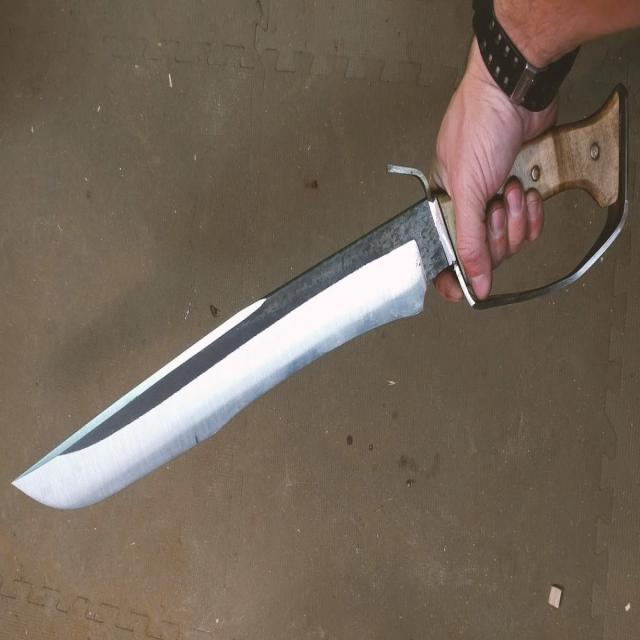knife: (2, 170, 454, 531)
